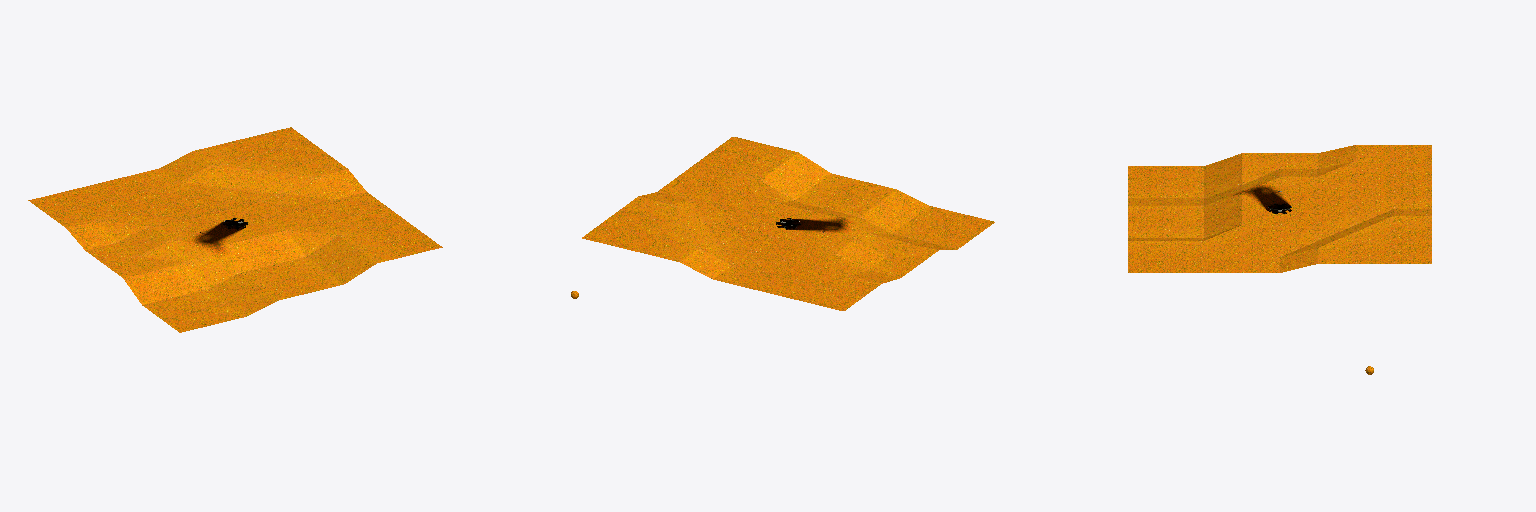
The picture shows the model from 3 angles: view 1: azimuth 30°, elevation 25°; view 2: azimuth 150°, elevation 25°; view 3: azimuth 270°, elevation 25°; orthographic projection.
Parts seen in each view (by area): view 1: Plane; view 2: Plane; view 3: Plane.
Part boxes in pixels (x1,y1,x2,y2): Plane: (28, 127, 442, 332); Plane: (582, 137, 994, 310); Plane: (1128, 145, 1431, 272).
Size of the model in its own units: 434 by 126 by 375.
Materials: 2 (2 with a texture image).